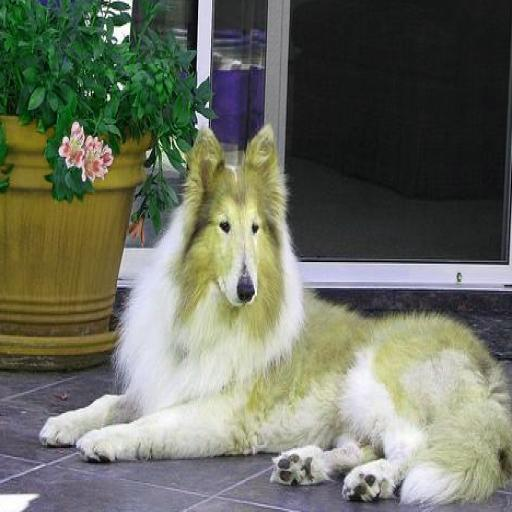dog_face: (187, 134, 283, 308)
